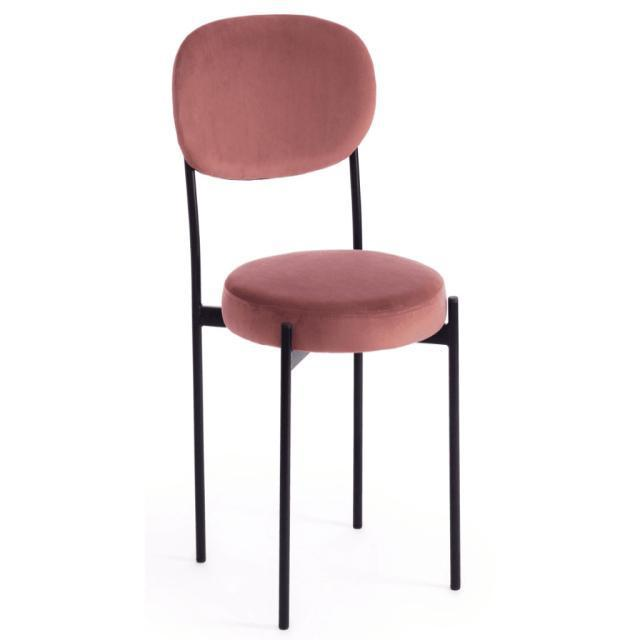chair: (169, 6, 467, 634), (172, 12, 464, 353)
